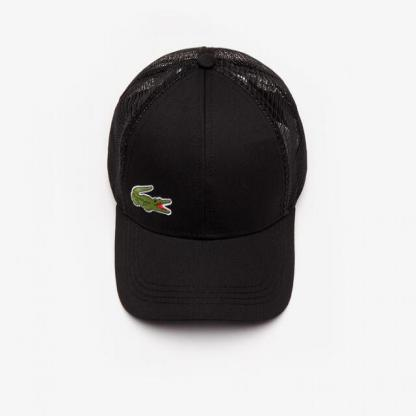cap: (106, 45, 312, 335)
